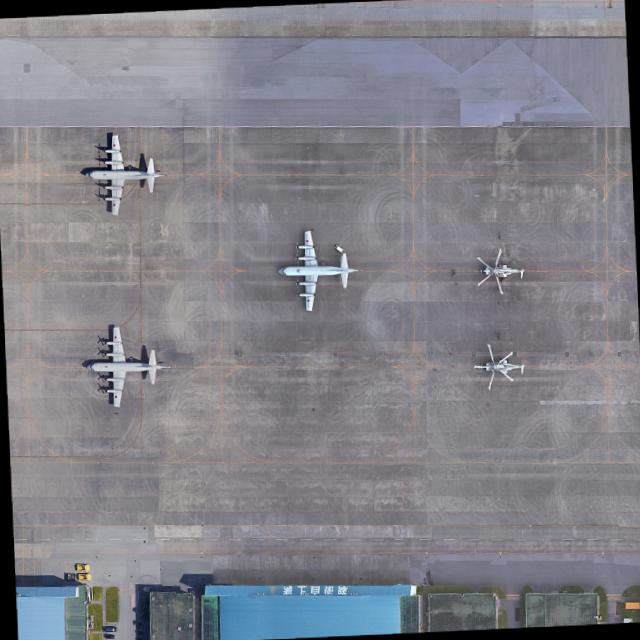large-vehicle: (104, 626, 117, 632), (103, 633, 113, 639)
plane: (82, 324, 169, 413), (82, 129, 163, 221), (277, 228, 353, 310)
small-vehicle: (332, 243, 344, 254)
